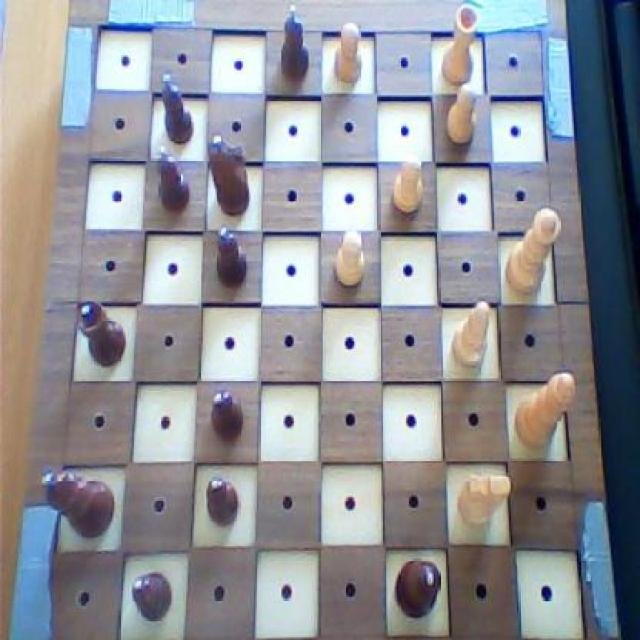black-bishop: (40, 466, 117, 545)
black-king: (204, 131, 256, 219)
black-knight: (157, 69, 197, 146), (154, 142, 194, 218), (211, 223, 252, 294), (204, 383, 248, 446), (278, 2, 310, 82), (202, 469, 242, 530), (128, 569, 174, 621)
black-pawn: (391, 552, 442, 620)
black-rook: (446, 294, 492, 373)
white-king: (454, 466, 513, 533)
white-knight: (441, 82, 484, 150), (329, 224, 369, 288), (388, 152, 425, 216)
white-pawn: (502, 203, 564, 300), (512, 366, 578, 453)
white-queen: (442, 2, 483, 88)
